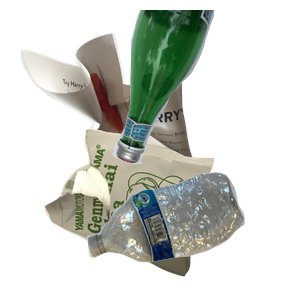glass: (109, 10, 300, 167)
paper: (18, 30, 213, 210)
plastic: (85, 170, 300, 300)
trash: (42, 126, 249, 300)
